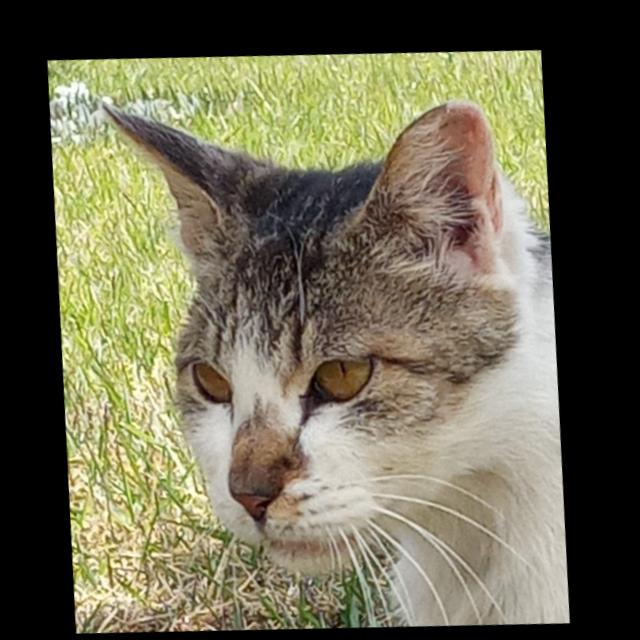animals: (67, 46, 568, 617)
